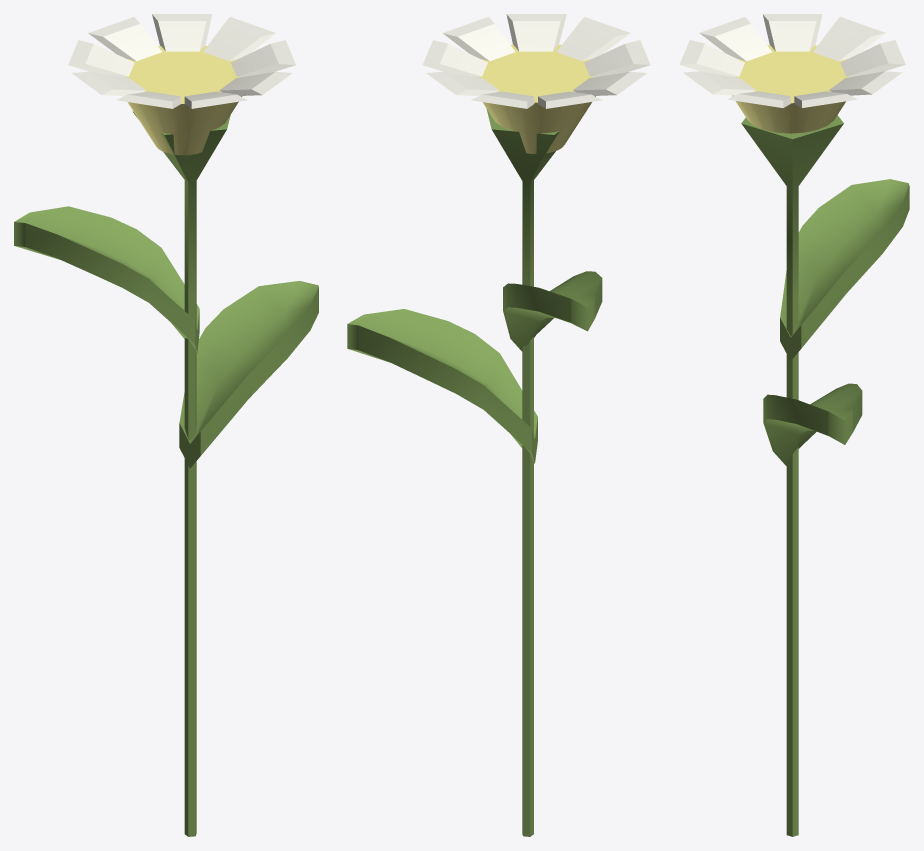
File: Daisy.glb
3 renders of one model, left to right at view 1: azimuth 30°, elevation 25°; view 2: azimuth 150°, elevation 25°; view 3: azimuth 270°, elevation 25°, orthographic.
Parts seen in each view (by area): view 1: pCube10, pPipe19, pCube11, pPipe17, pCylinder3; view 2: pPipe19, pCube10, pPipe17, pCylinder3, pCube11; view 3: pPipe19, pCube11, pPipe17, pCylinder3, pCube10.
Boxes of the visible parts, x1,y1,x2,y2 form: pCube10: (179, 281, 318, 468); pPipe19: (68, 14, 295, 108); pCube11: (14, 206, 199, 353); pPipe17: (132, 111, 230, 836); pCylinder3: (123, 45, 242, 155); pPipe19: (423, 14, 650, 108); pCube10: (347, 309, 537, 463); pPipe17: (486, 109, 559, 836); pCylinder3: (476, 44, 595, 153); pCube11: (503, 271, 602, 351); pPipe19: (679, 14, 905, 107); pCube11: (780, 179, 909, 360); pPipe17: (741, 115, 843, 836); pCylinder3: (732, 44, 850, 133); pCube10: (763, 383, 862, 465).
Size of the model in its own units: 0.8543 by 2.32 by 0.6297.
